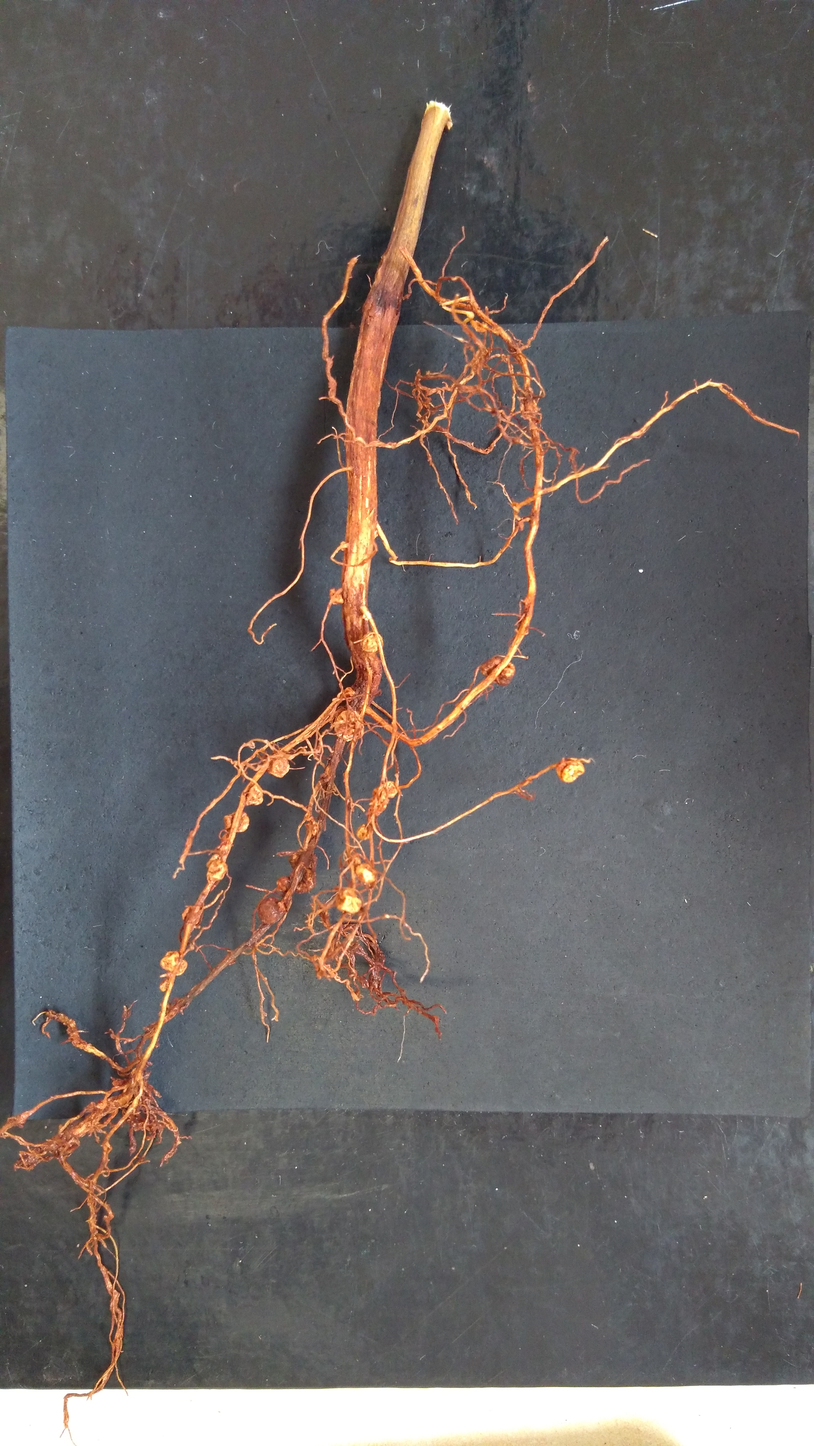nodule: (477, 656, 519, 687), (331, 708, 367, 744), (255, 894, 285, 926), (554, 755, 586, 784), (286, 846, 318, 875), (332, 887, 364, 915), (202, 852, 229, 885), (158, 950, 190, 977), (221, 809, 249, 833), (294, 868, 317, 895), (354, 862, 379, 886), (266, 756, 292, 779), (360, 631, 384, 654), (244, 783, 265, 808), (355, 822, 373, 843), (383, 779, 399, 801), (327, 587, 344, 605), (468, 318, 488, 332), (274, 875, 291, 891), (303, 820, 320, 836), (158, 978, 170, 993)
